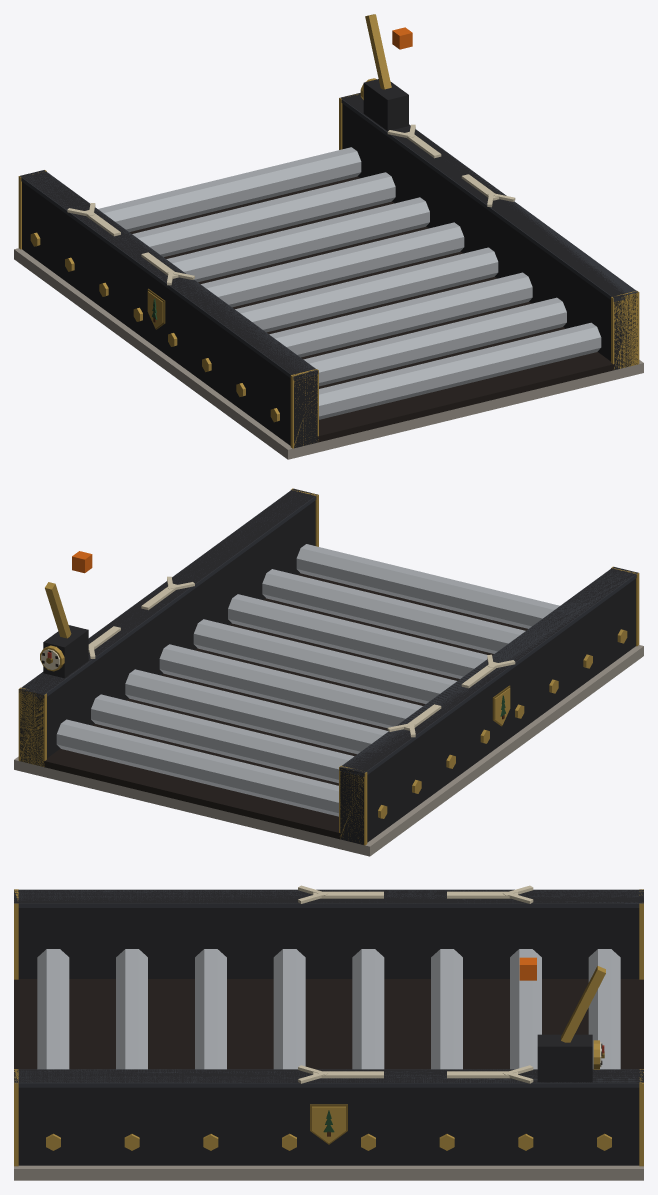
The model's file is ConveyorReversible.glb.
The picture shows the model from 3 angles, top to bottom: view 1: azimuth 30°, elevation 25°; view 2: azimuth 150°, elevation 25°; view 3: azimuth 270°, elevation 25°; orthographic projection. The views are drawn at different scales.
Parts seen in each view (by area): view 1: Rollers, Body, Belt, ArrowDecal, Lever; view 2: Rollers, Body, Belt, ArrowDecal, Lever; view 3: Body, Belt, Rollers, ArrowDecal, Lever.
Part boxes in pixels (box(x1,y1,x2,y2)): Rollers: box(30, 147, 601, 422); Body: box(14, 78, 643, 459); Belt: box(129, 176, 614, 442); ArrowDecal: box(67, 124, 515, 285); Lever: box(365, 14, 412, 89); Rollers: box(56, 544, 627, 818); Body: box(14, 488, 643, 856); Belt: box(43, 573, 527, 839); ArrowDecal: box(88, 576, 515, 737); Lever: box(45, 551, 92, 638); Body: box(14, 889, 643, 1180); Belt: box(14, 979, 643, 1069); Rollers: box(37, 949, 620, 1150); ArrowDecal: box(298, 885, 533, 1083); Lever: box(519, 957, 605, 1042).
Size of the model in its own units: 6 by 2.93 by 8.
